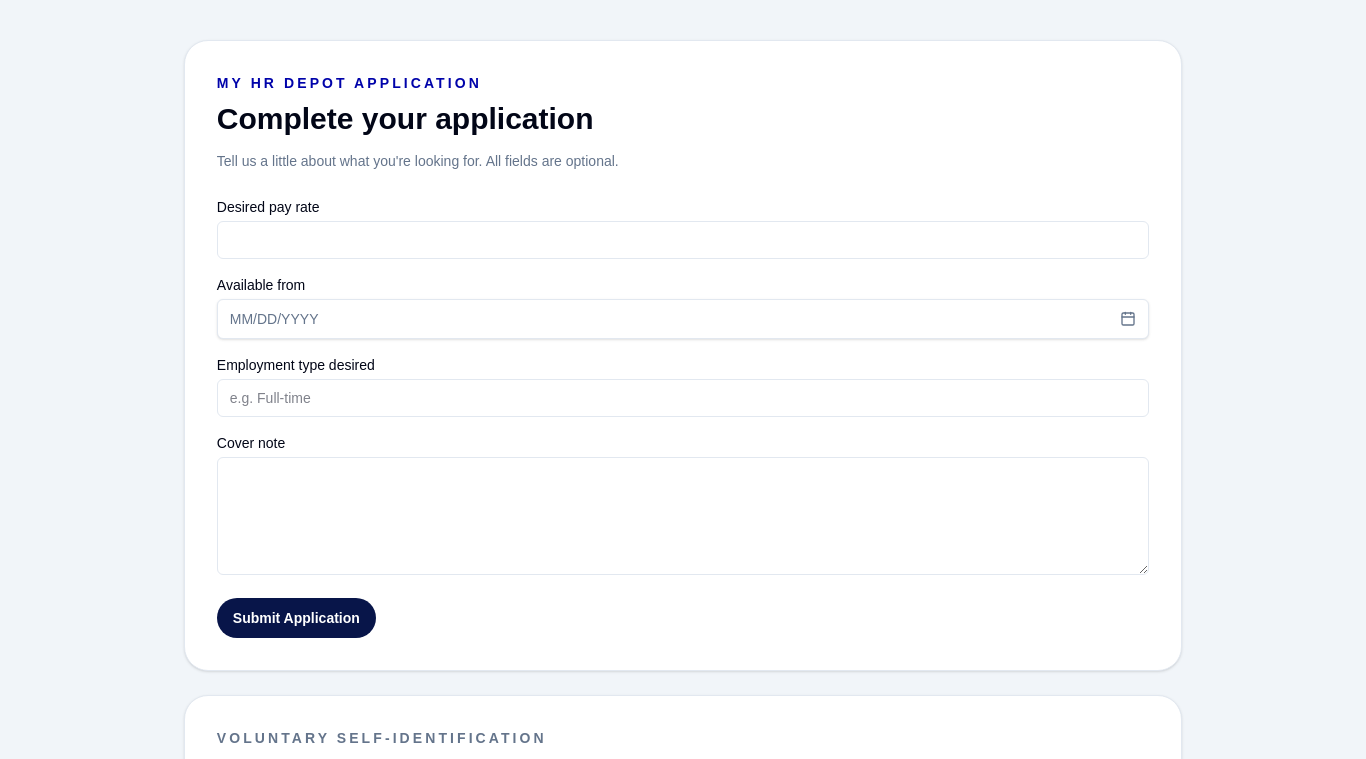
MhdApplyPage — public, token-driven, UNAUTHENTICATED › submits the application with ONLY the invite token as credential — no session, no auth provider
Click the button "Submit application" at (296, 618), box top-left (217, 598), bottom-right (376, 638)
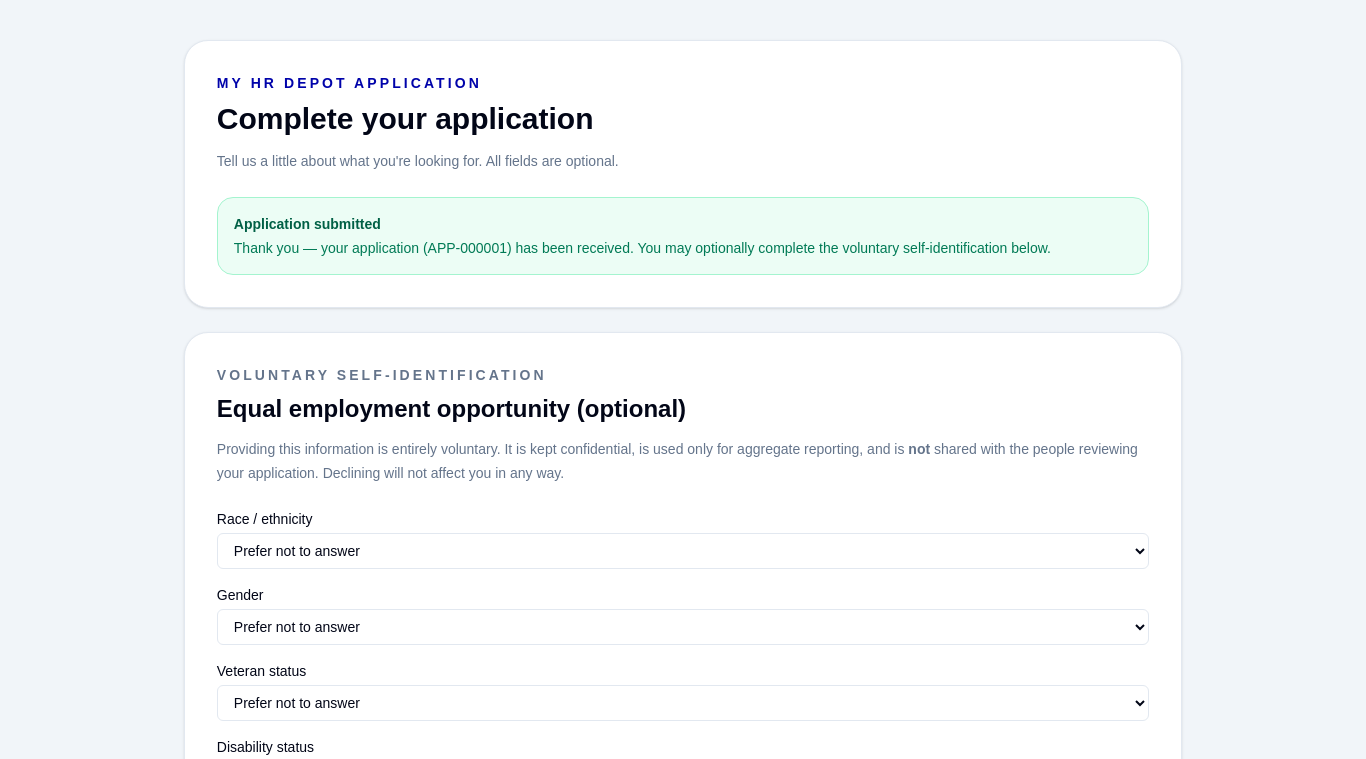
Check: the text "Application submitted" is shown, box top-left (234, 216), bottom-right (381, 232)
